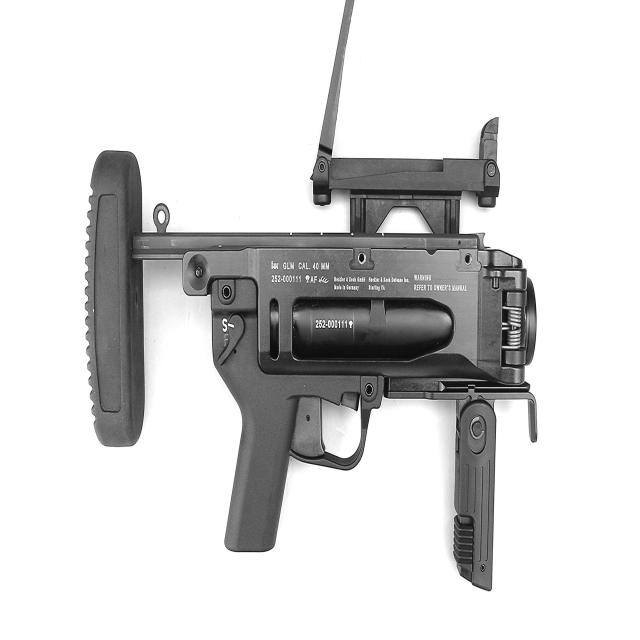Weapon: (86, 118, 537, 589)
